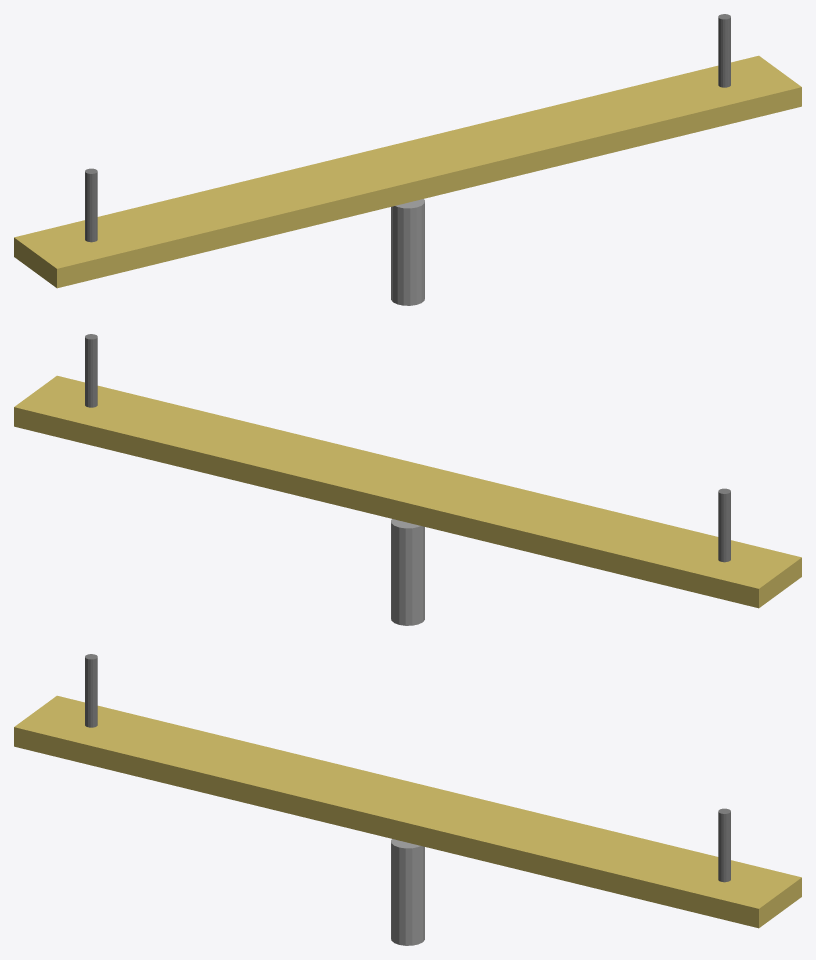
Rendered from Seesaw.glb.
3 views of the same model, one above another, from view 1: azimuth 30°, elevation 25°; view 2: azimuth 150°, elevation 25°; view 3: azimuth 330°, elevation 25° (orthographic).
Parts seen in each view (by area): view 1: world; view 2: world; view 3: world.
Boxes of the visible parts, x1,y1,x2,y2 form: world: [14, 14, 801, 305]; world: [14, 334, 801, 625]; world: [14, 654, 801, 945].
Size of the model in its own units: 4 by 1.05 by 0.4.
